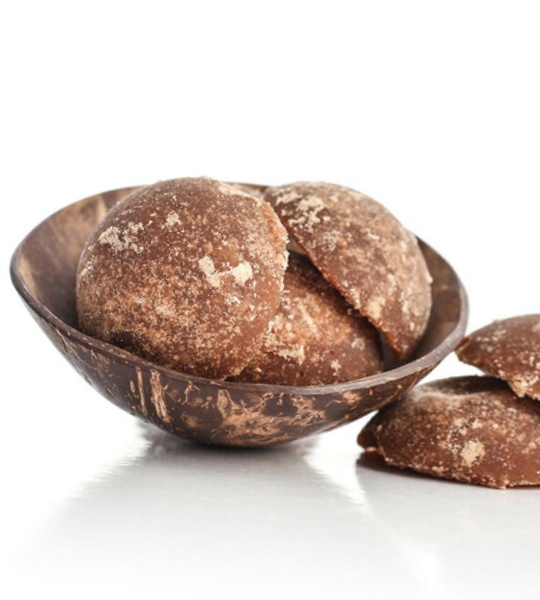hakuru: (73, 174, 292, 374), (260, 169, 442, 364), (350, 370, 540, 493), (449, 309, 540, 470)
